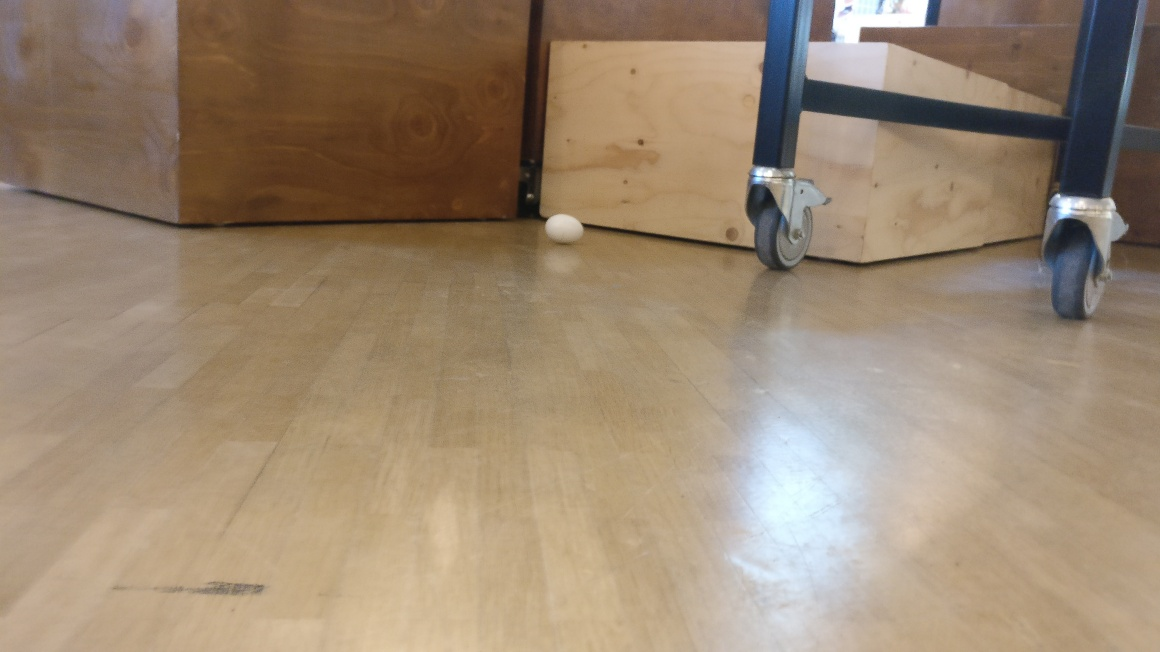egg: (544, 213, 584, 245)
